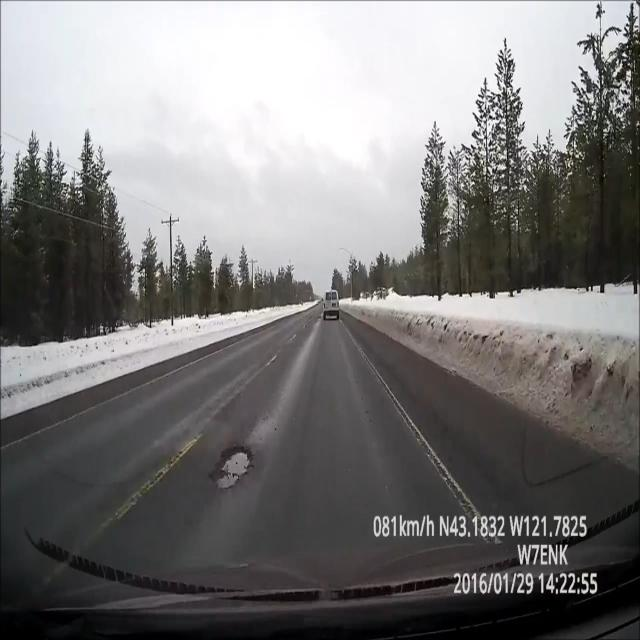Pothole: (202, 439, 257, 496)
